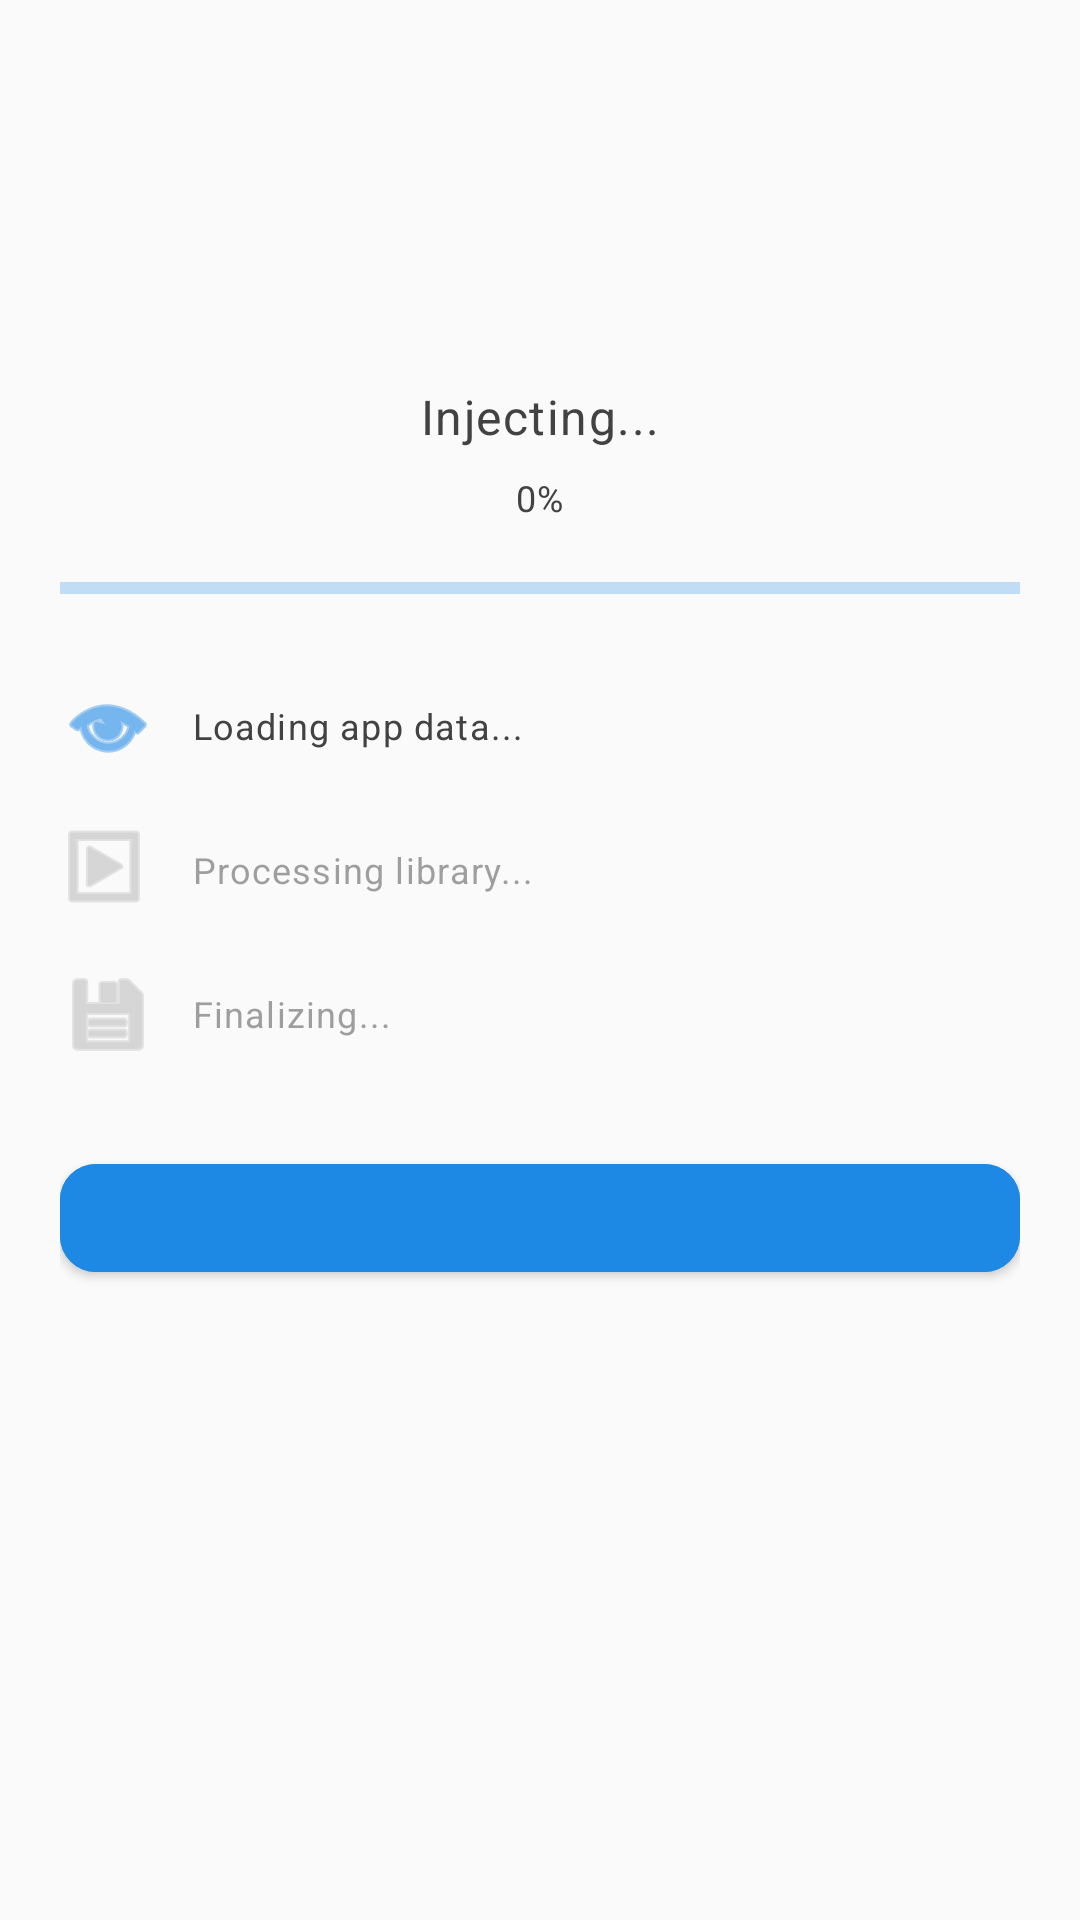

Where icons sit on this 1080 x 1920 app screen, as detection(x1, y1, x2, y2):
save: detection(73, 979, 143, 1050)
slideshow: detection(69, 831, 139, 902)
view: detection(69, 704, 147, 753)
